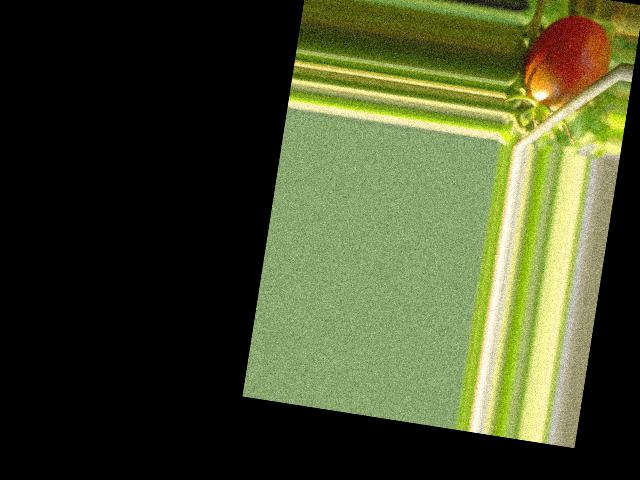tomato: (520, 9, 615, 118)
